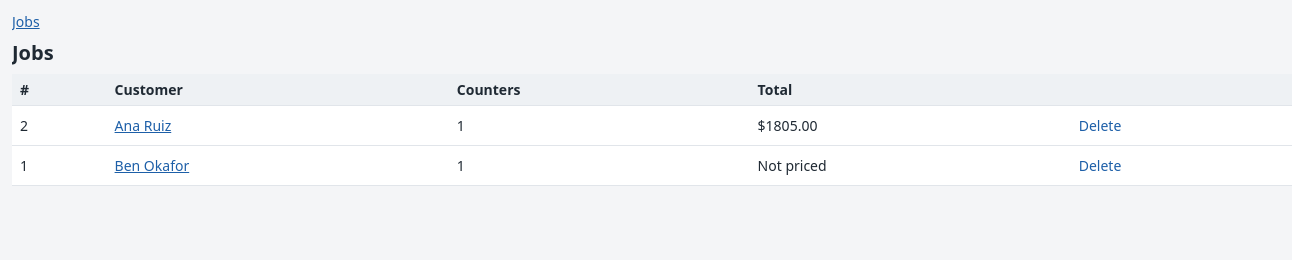
the jobs list › says why a delete or the list failed
Later steps or results of the test are not shown.
Click the button with aria-label "Delete the job for Ben Okafor" at (1100, 166), box [1079,152,1121,179]
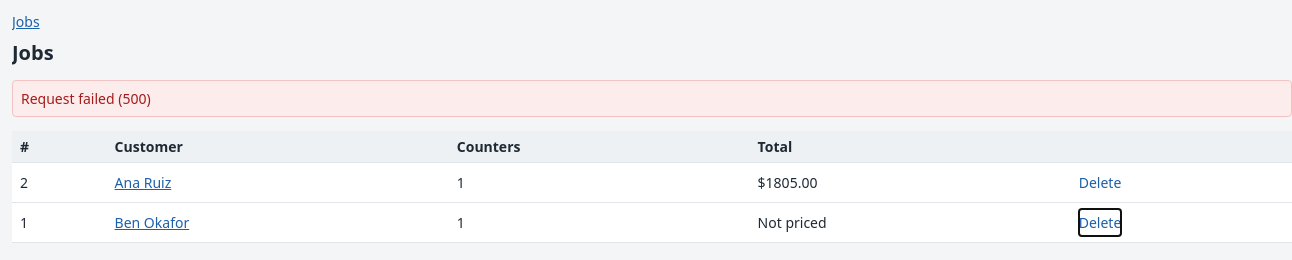
Now the text "Request failed (500)" is shown, box [12,80,1291,117]
